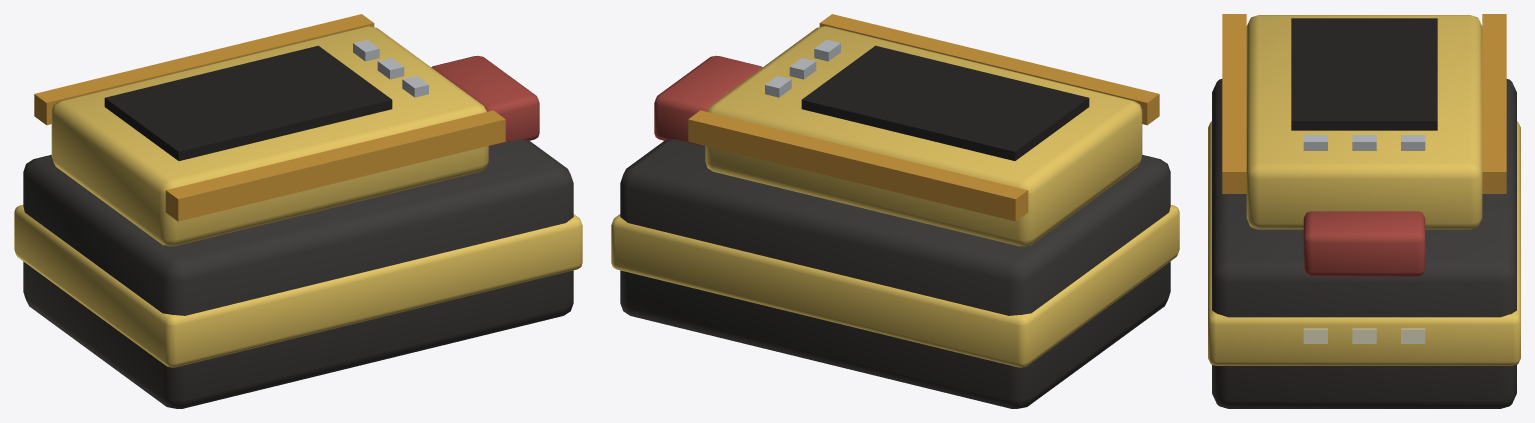
File: tool_pack.glb
3 views of the same model, side by side, from view 1: azimuth 30°, elevation 25°; view 2: azimuth 150°, elevation 25°; view 3: azimuth 270°, elevation 25° (orthographic).
Parts seen in each view (by area): view 1: cells, deck, band, slot, rail_l, rail_r, button; view 2: cells, deck, band, slot, rail_r, rail_l, button; view 3: cells, deck, slot, band, button, rail_l, rail_r, contact0, contact1, contact2, led1, led0 (+1 smaller).
Boxes of the visible parts, bbox=[...] form: cells: bbox=[23, 139, 573, 408]; deck: bbox=[51, 26, 488, 246]; band: bbox=[14, 205, 582, 367]; slot: bbox=[104, 45, 392, 160]; rail_l: bbox=[165, 110, 505, 221]; rail_r: bbox=[34, 14, 374, 125]; button: bbox=[431, 55, 539, 145]; cells: bbox=[620, 139, 1170, 408]; deck: bbox=[705, 26, 1142, 246]; band: bbox=[611, 205, 1179, 367]; slot: bbox=[801, 45, 1089, 160]; rail_r: bbox=[688, 110, 1028, 221]; rail_l: bbox=[819, 14, 1159, 125]; button: bbox=[654, 55, 762, 145]; cells: bbox=[1212, 79, 1516, 408]; deck: bbox=[1246, 15, 1482, 229]; slot: bbox=[1291, 18, 1437, 130]; band: bbox=[1208, 121, 1520, 365]; button: bbox=[1303, 211, 1425, 276]; rail_l: bbox=[1222, 14, 1246, 193]; rail_r: bbox=[1482, 14, 1506, 193]; contact0: bbox=[1303, 135, 1327, 150]; contact1: bbox=[1352, 135, 1376, 150]; contact2: bbox=[1401, 135, 1425, 150]; led1: bbox=[1352, 328, 1376, 343]; led0: bbox=[1303, 328, 1327, 343].
Size of the model in its own units: 0.1185 by 0.0605 by 0.077.
